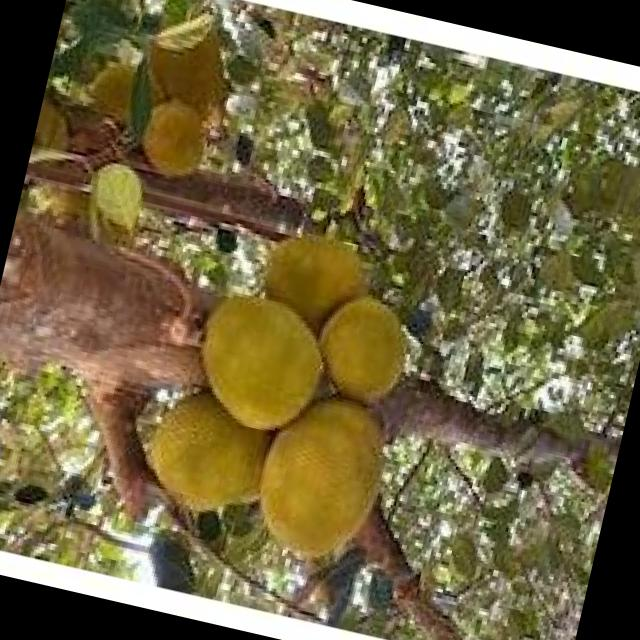Fruit: (148, 252, 377, 478), (232, 372, 408, 581)
